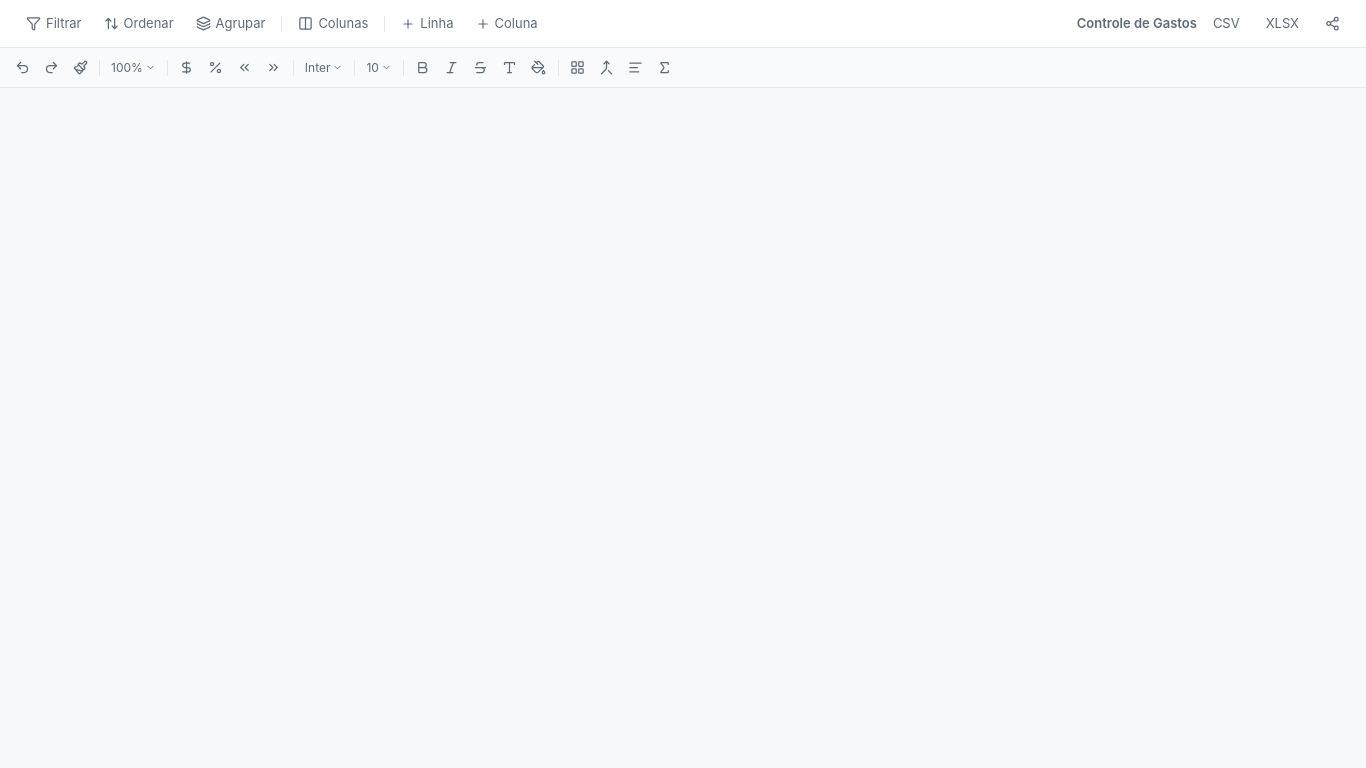
TableGridPanel — Compartilhar (diálogo funcional) › diálogo de Compartilhar fecha com Escape
Click the button titled "Compartilhar" at (1332, 24), box [1315, 11, 1350, 36]
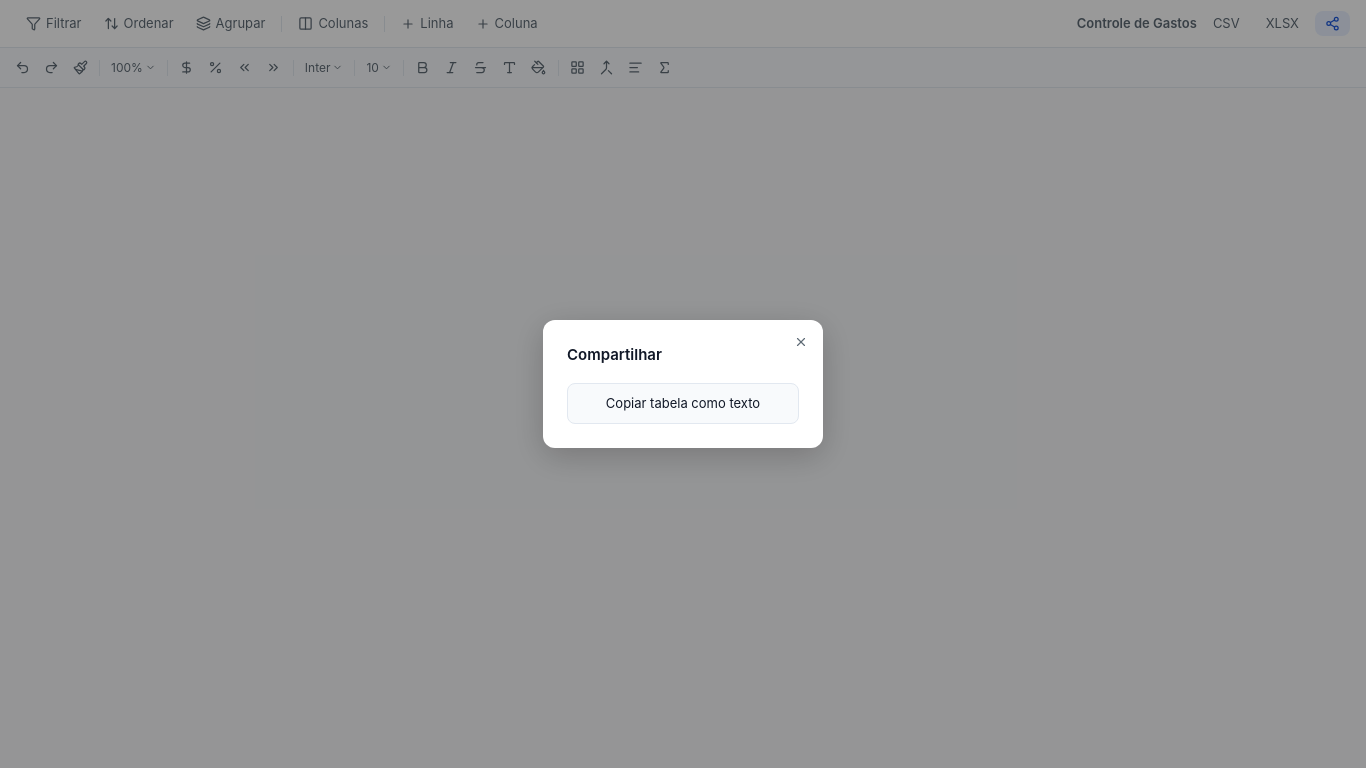
Expected: the button "Copiar tabela como texto" is shown, [567, 382, 799, 424]
Press Escape
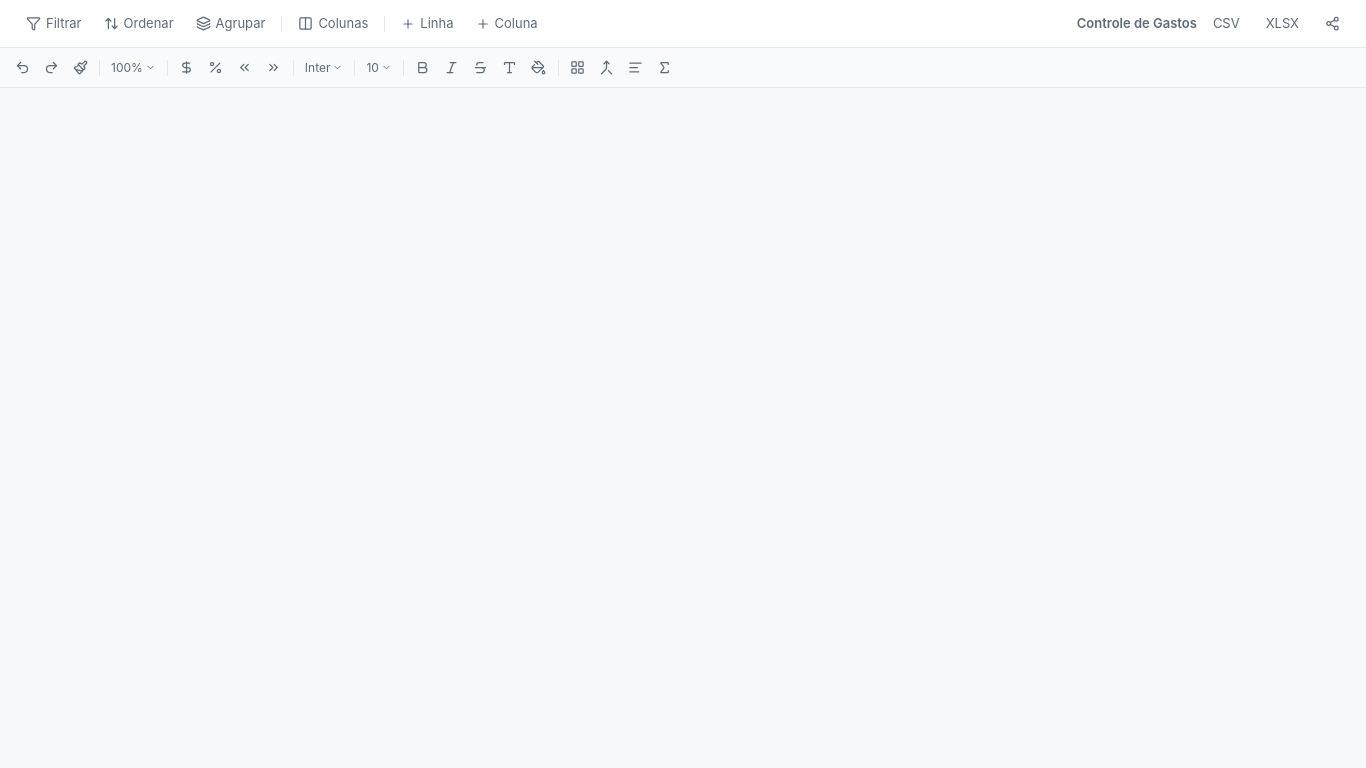
Expected: the button "Copiar tabela como texto" is gone
